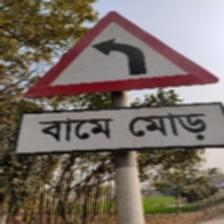Left-Turn: (20, 9, 222, 152)
